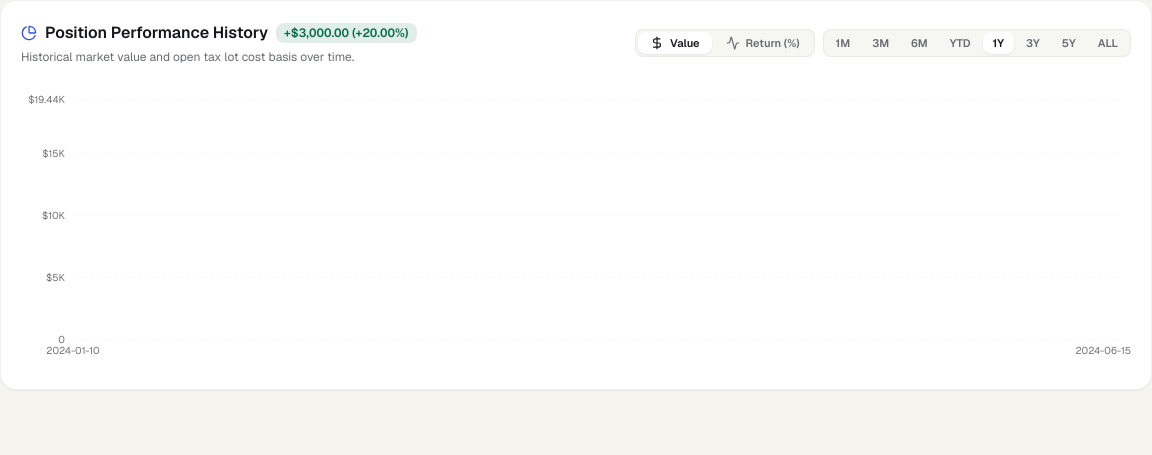
Test: PositionPerformanceGraph › switches to Return (%) mode and shows benchmark toggles
The image size is (1152, 455).
Click the button "Return (%)". click: (763, 43)
box: [714,32,812,54]
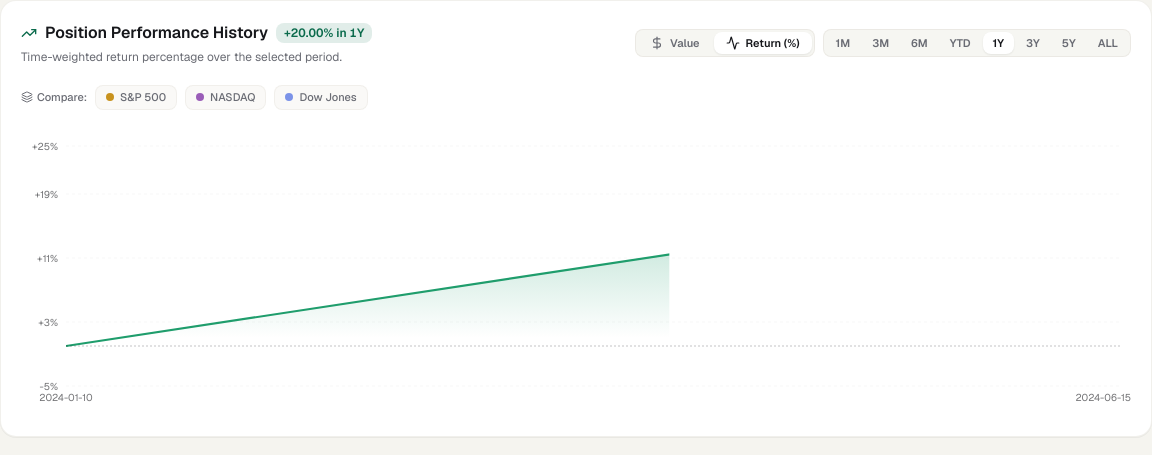
Expected: the text "Compare:" is shown, [21,90,87,105]
Expected: the button "S&P 500" is shown, [95,85,177,110]
Expected: the button "NASDAQ" is shown, [185,85,266,110]
